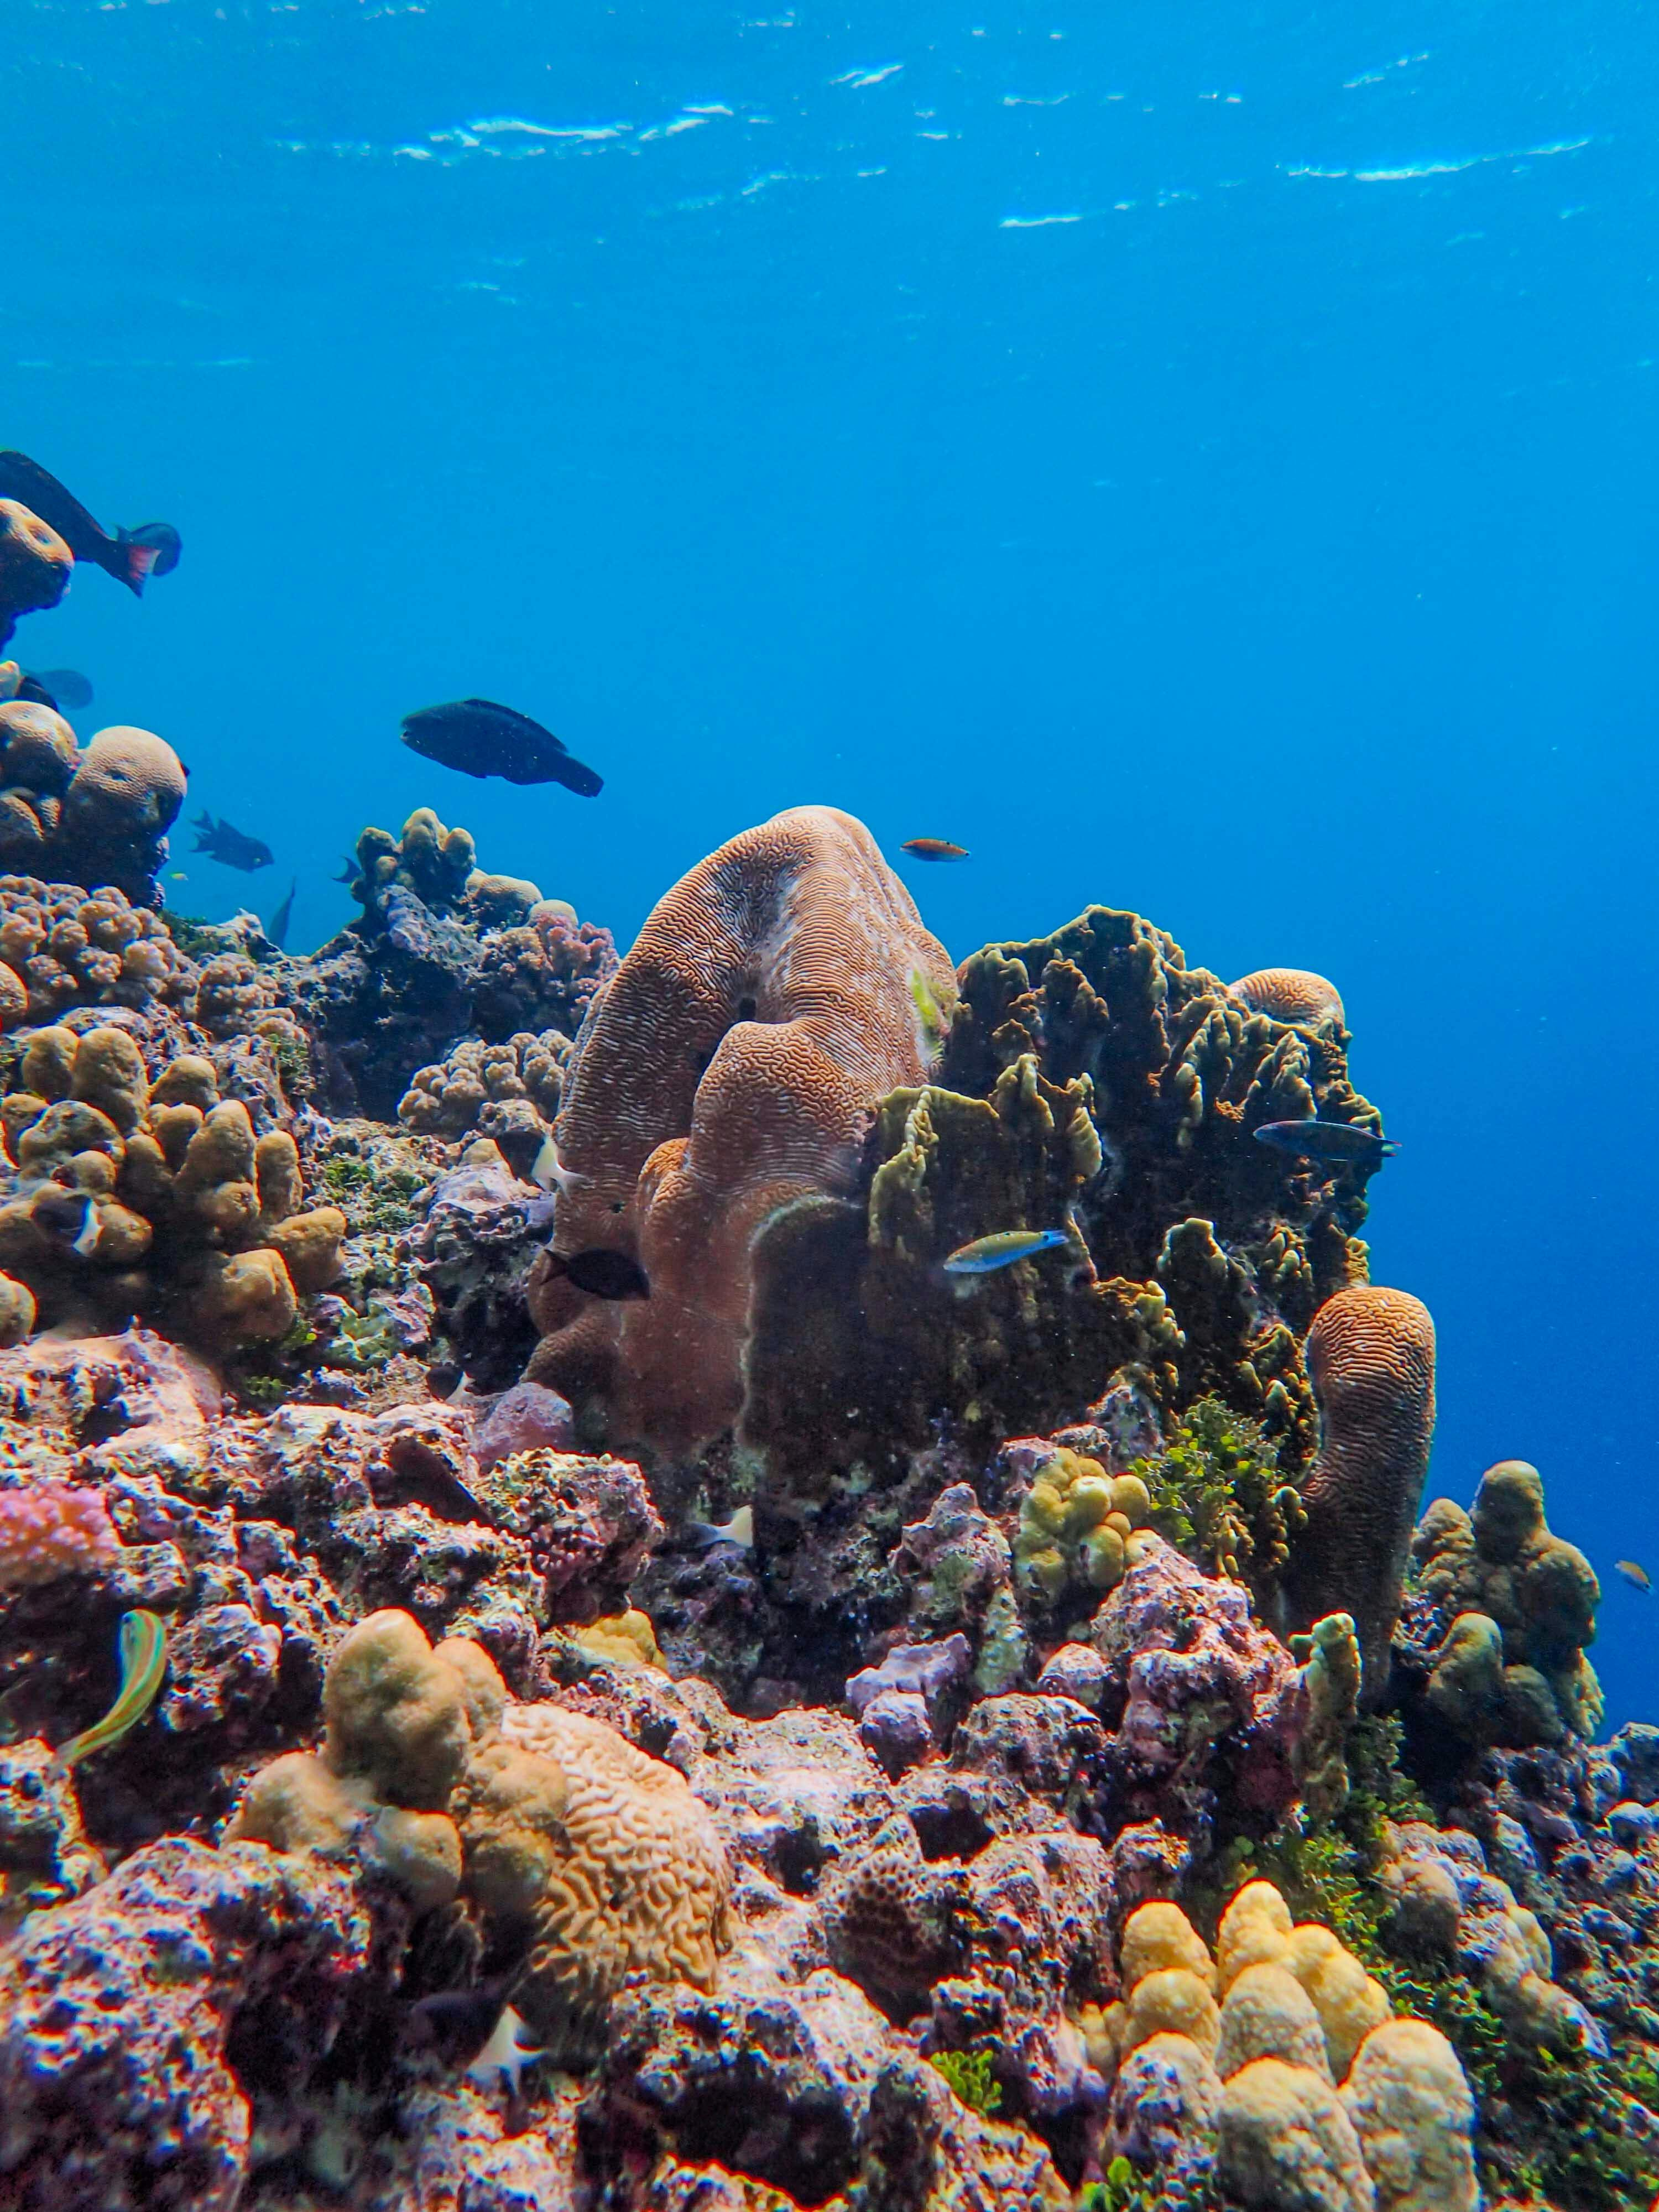fishLarge: (392, 693, 606, 805)
fishRound: (0, 449, 150, 597), (537, 1235, 660, 1312), (112, 517, 192, 578)
fishSmall: (38, 1602, 179, 1794), (1248, 1108, 1401, 1165), (941, 1223, 1075, 1280), (901, 824, 974, 871), (1608, 1554, 1659, 1606)
